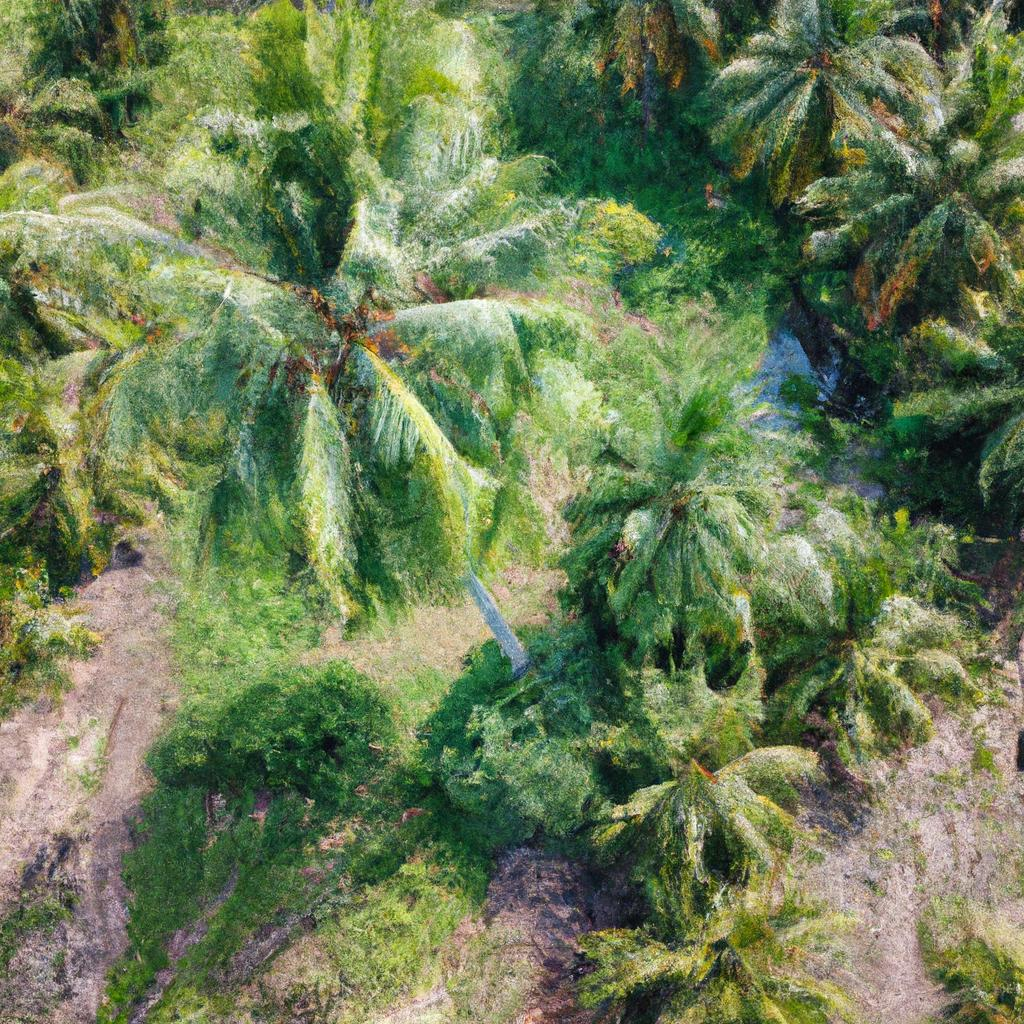coconut_tree: (47, 54, 598, 604), (557, 323, 806, 645)
